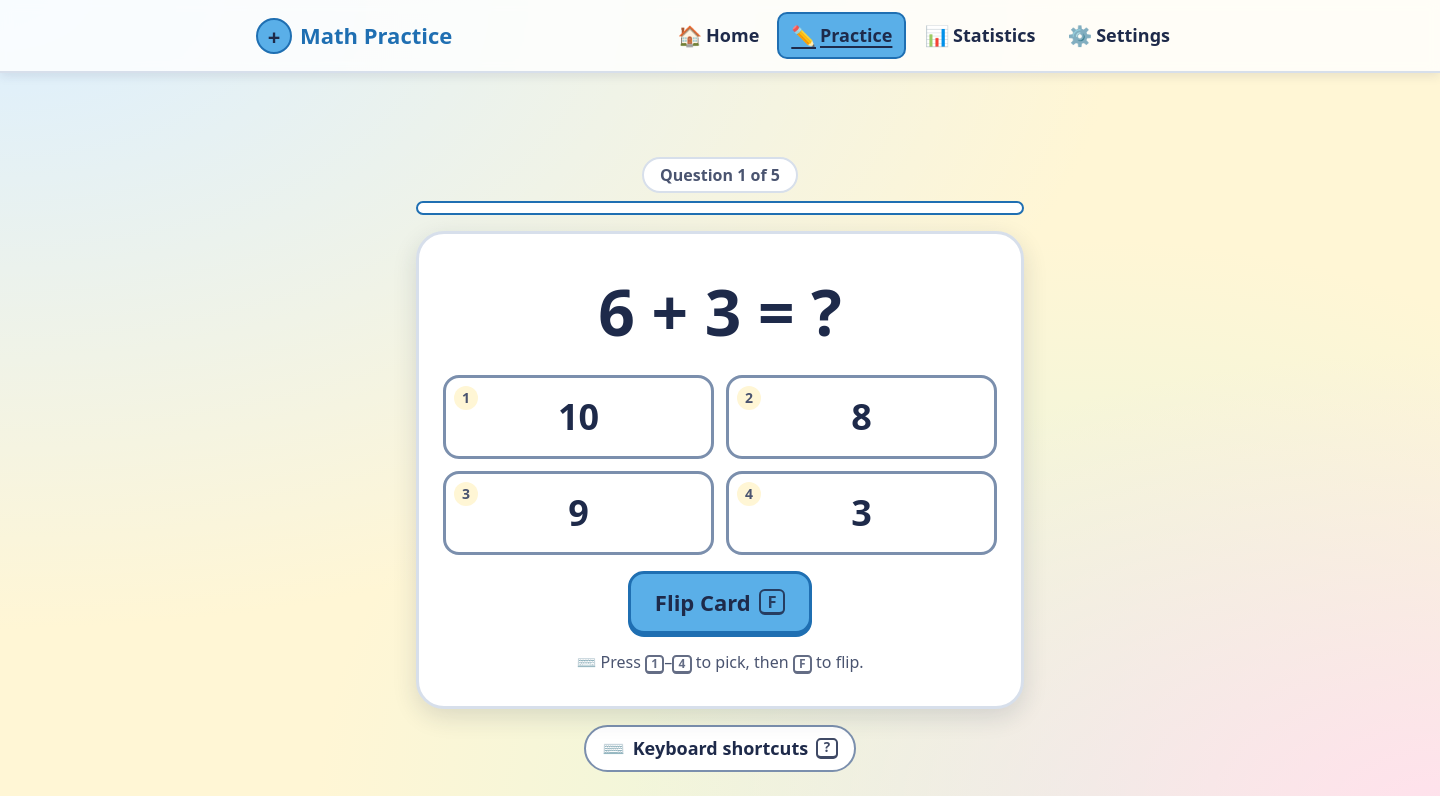
Scenario: leaving a session › "End and leave" ends the session and goes where you clicked
Step 1. Type keys "1"
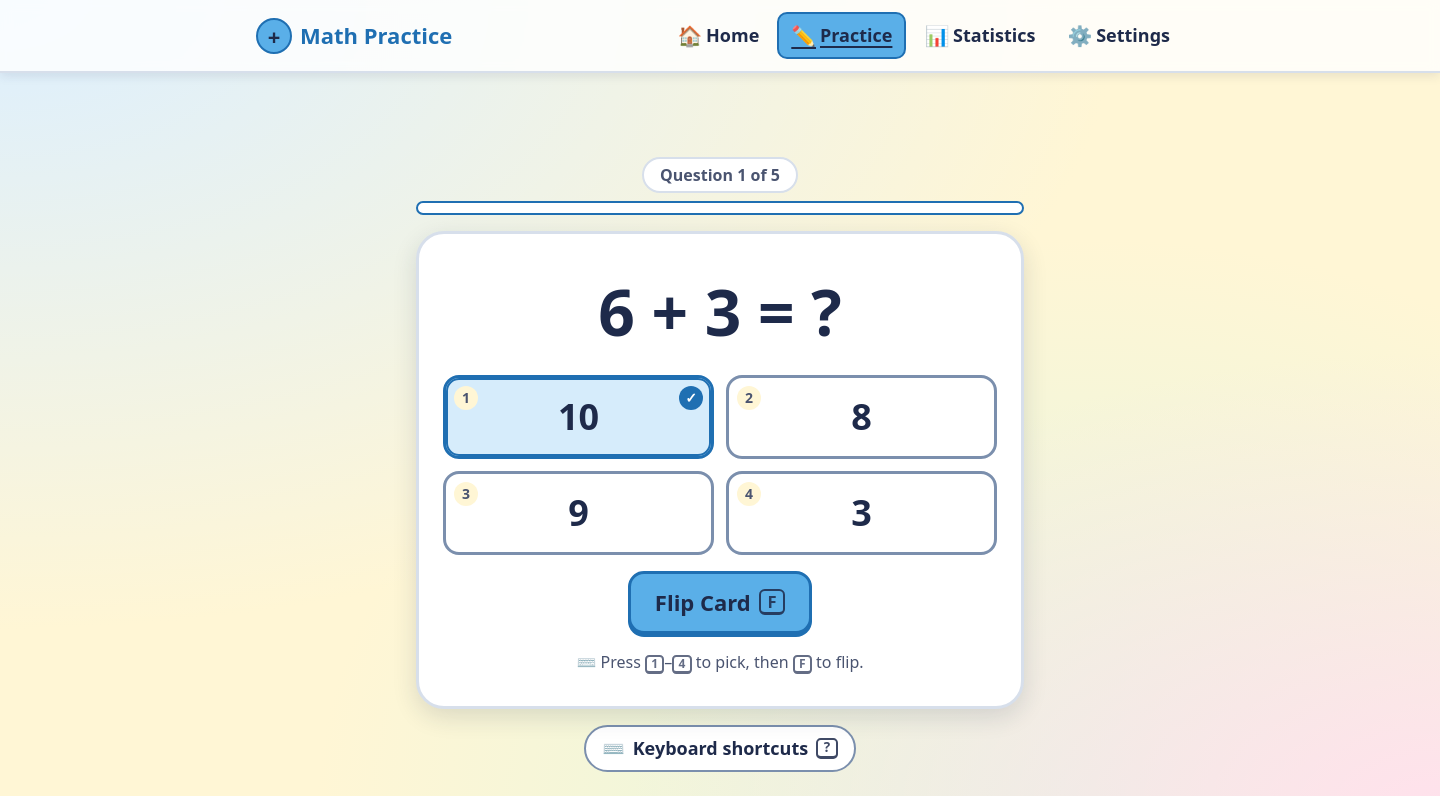
Step 2. Type keys "f"
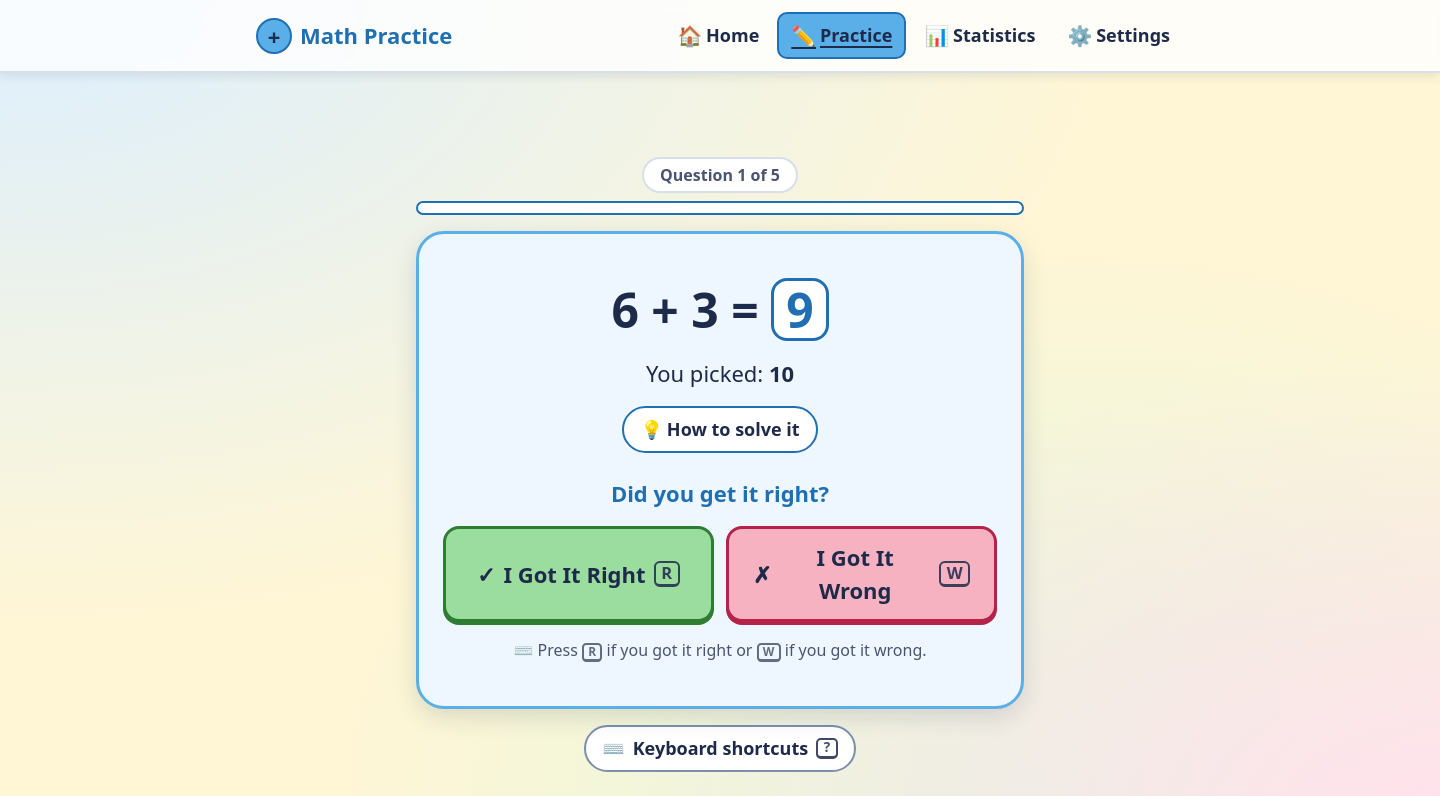
Step 3. Type keys "r"
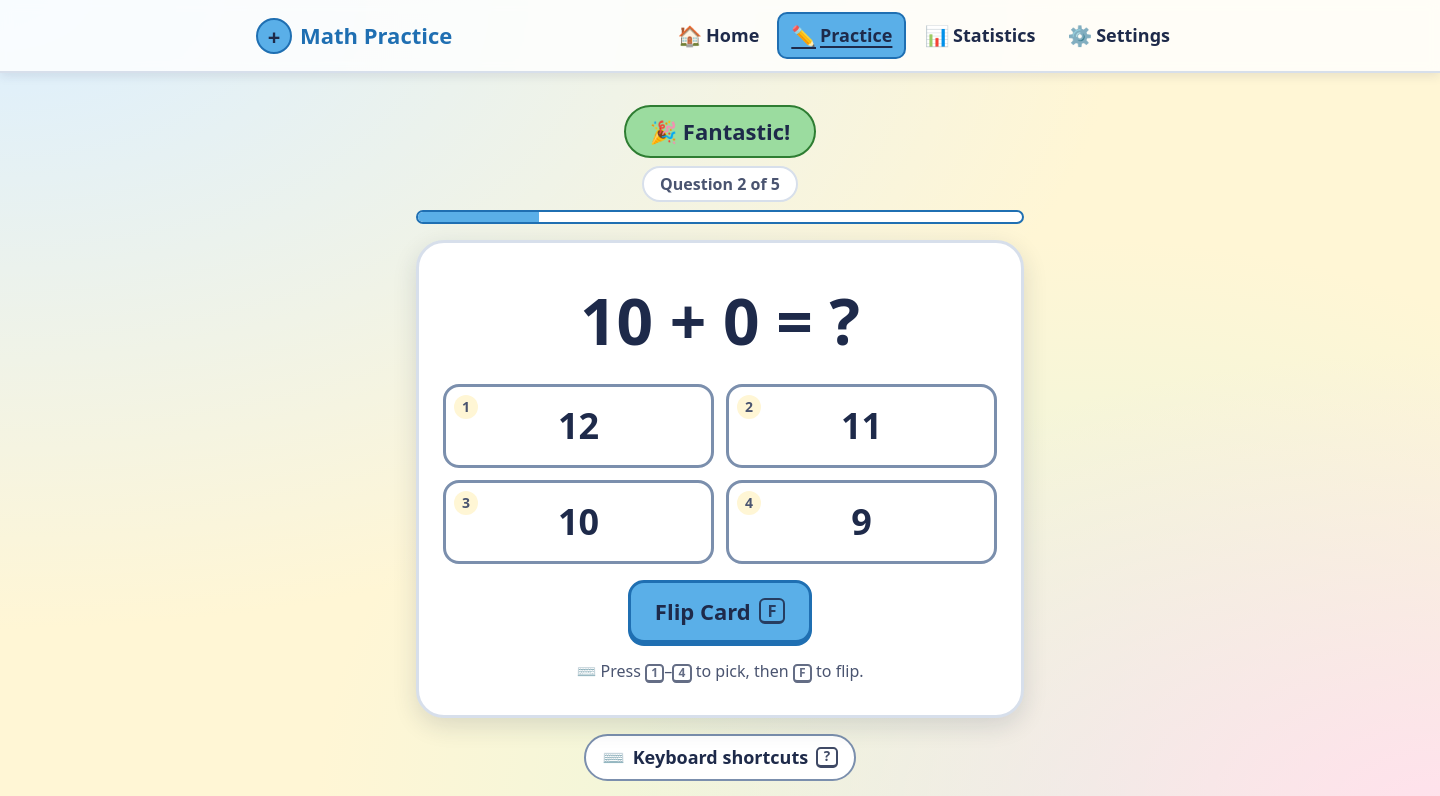
Step 4. Click the link "📊 Statistics" → (980, 35), box x1=924 y1=22 x2=1035 y2=49
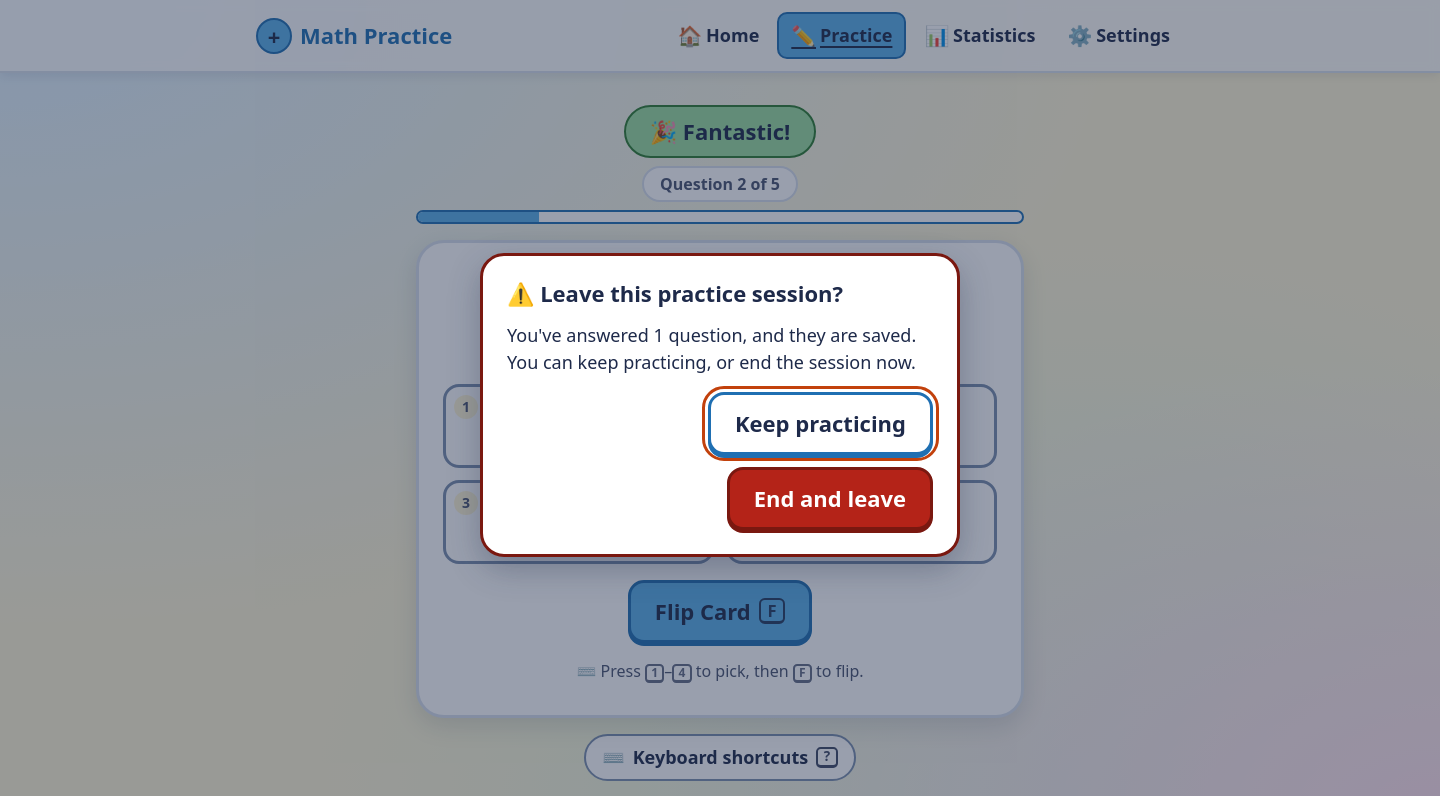
Step 5. Click the button "End and leave" → (830, 499), box x1=727 y1=467 x2=933 y2=530
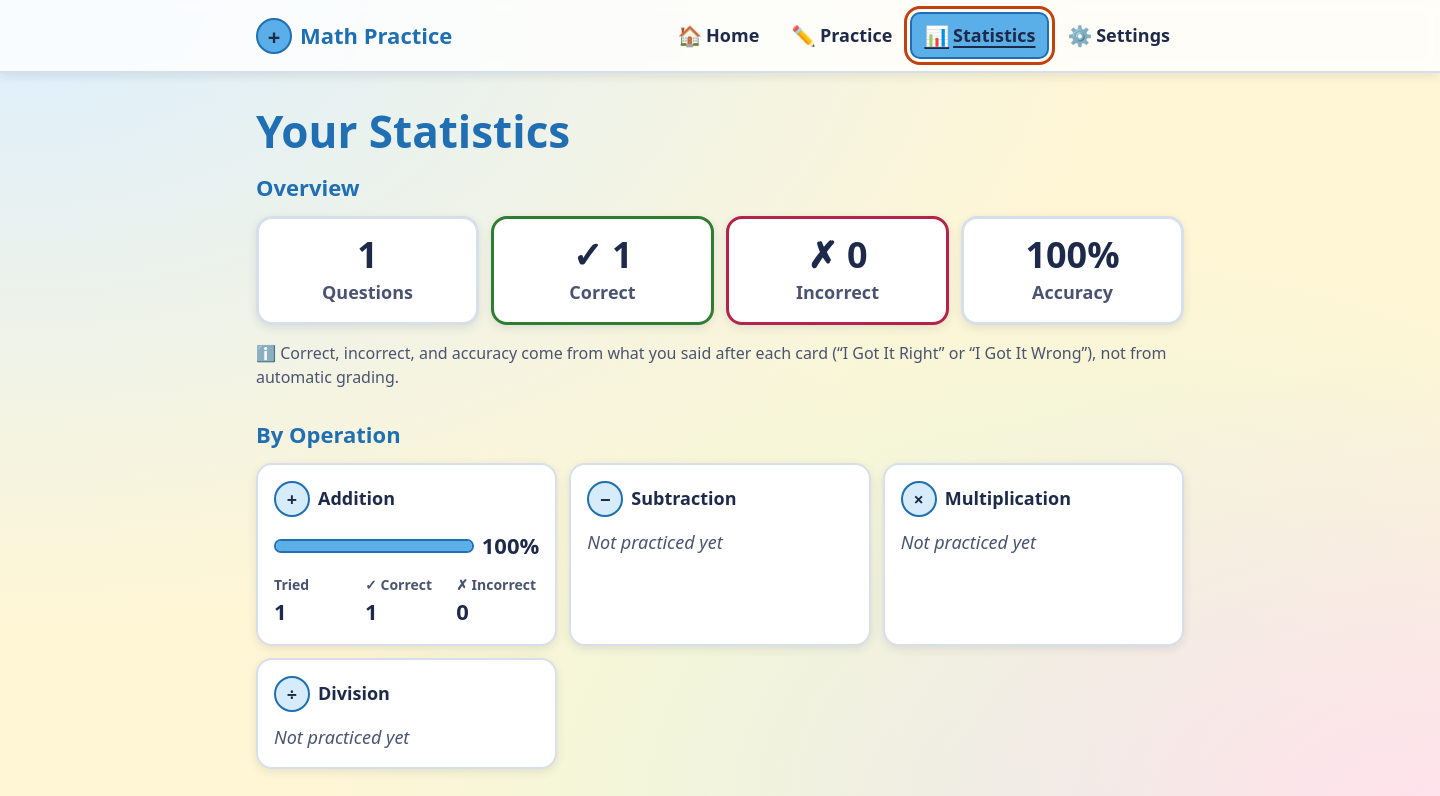
Expected: the heading "Your Statistics" is shown, x1=256 y1=101 x2=570 y2=161
